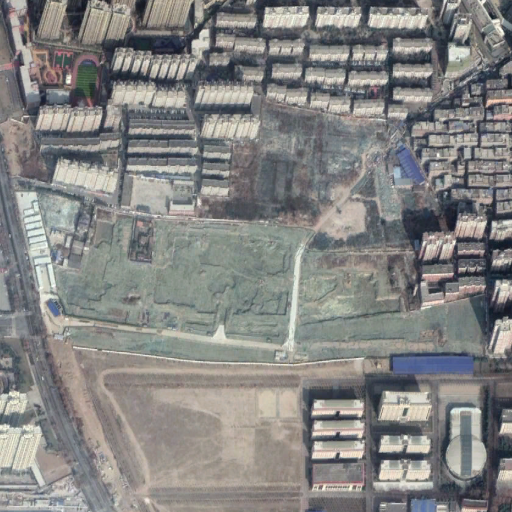cw: (35, 189, 487, 366), (199, 95, 448, 251)
